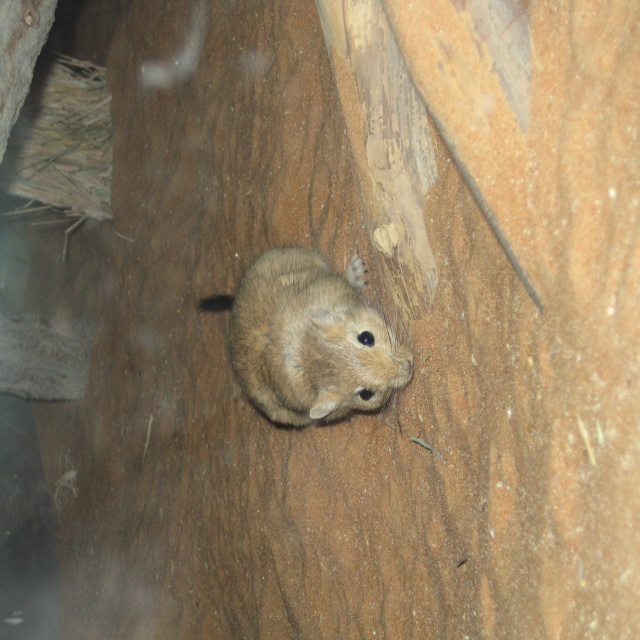Mouse: (196, 241, 420, 453)
